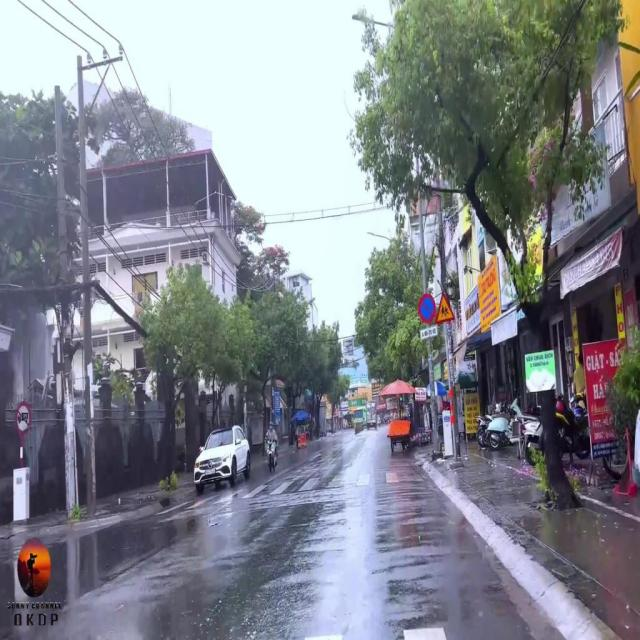cam_do_xe: (418, 292, 435, 323)
cam_o_to_tai: (16, 402, 32, 433)
chu_y_tre_em: (436, 291, 456, 323)
khac: (420, 326, 437, 340)
